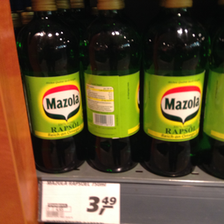oil: (17, 1, 86, 175), (140, 1, 206, 179), (78, 1, 143, 172)
